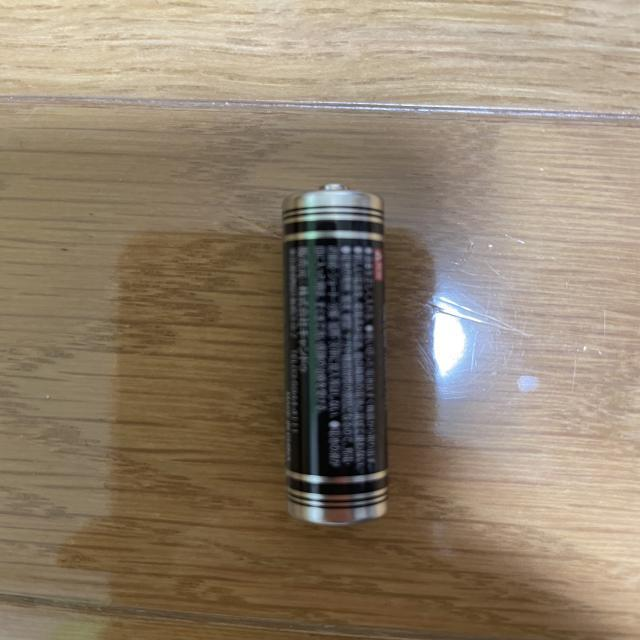hazardous waste: (273, 173, 404, 532)
